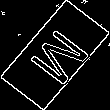M_SE: (18, 21, 92, 89)
